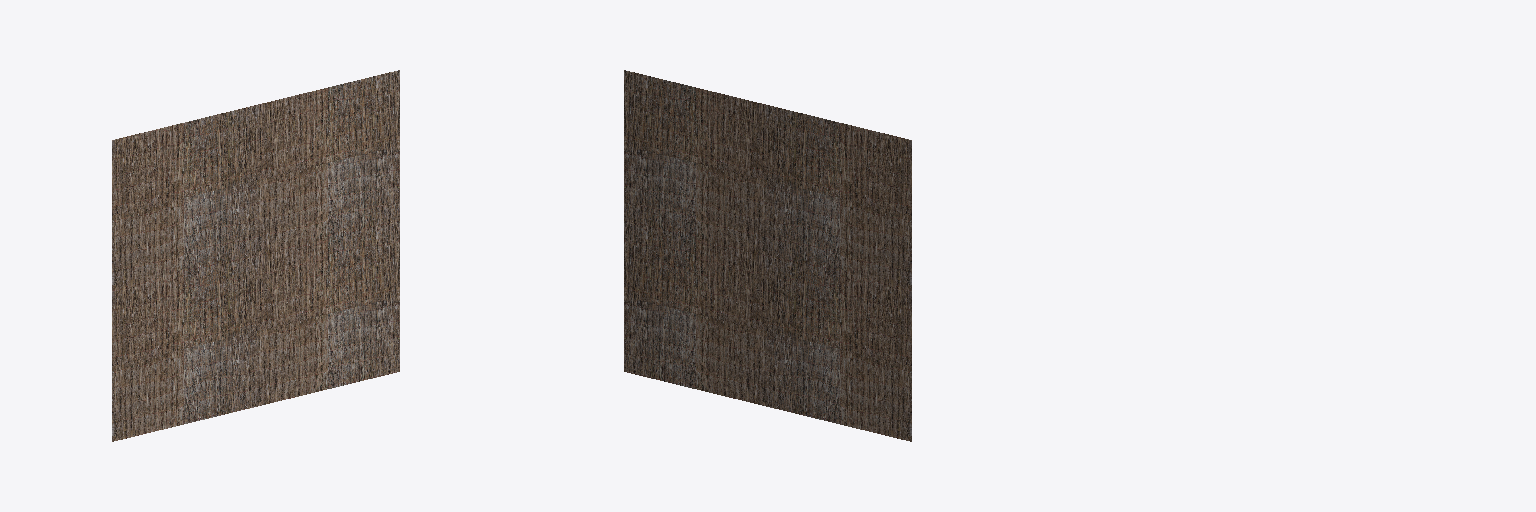
3 renders of one model, left to right at view 1: azimuth 30°, elevation 25°; view 2: azimuth 150°, elevation 25°; view 3: azimuth 270°, elevation 25°, orthographic.
Visible parts, largest first — view 1: CinderblockSloppy0005_1_S; view 2: CinderblockSloppy0005_1_S; view 3: none.
Boxes of the visible parts, <box> form: CinderblockSloppy0005_1_S: <box>112,70,399,441</box>; CinderblockSloppy0005_1_S: <box>624,70,911,441</box>.
Bounding box in the file's own units: 4 × 4 × 0.
1 materials, 1 textured.